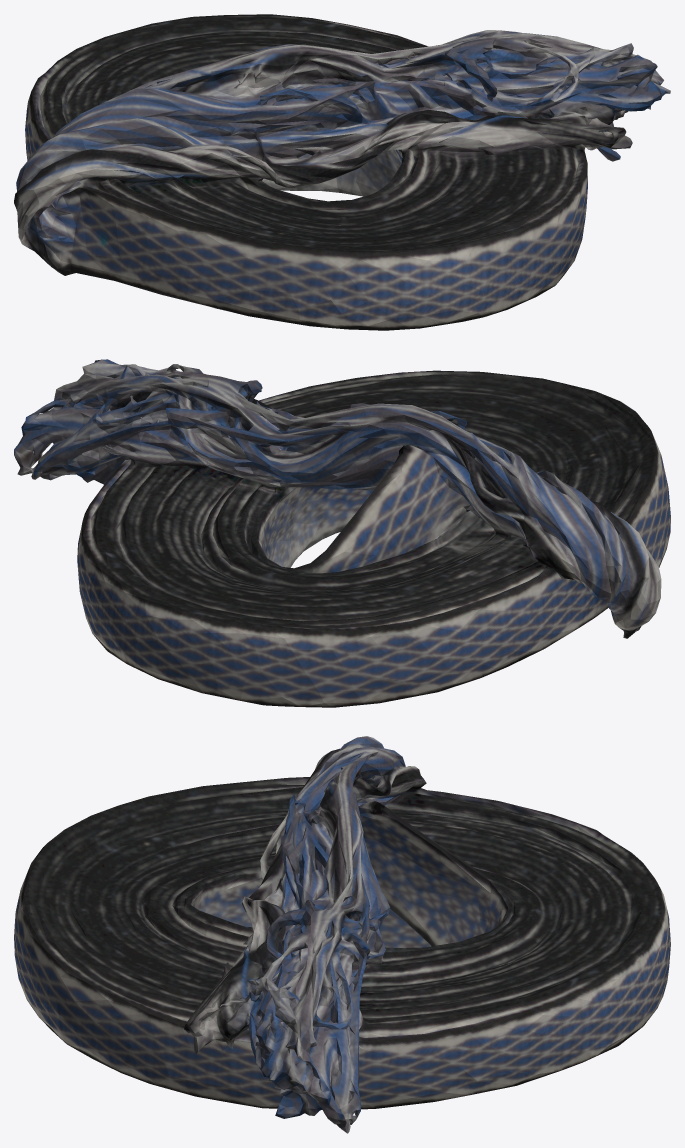
3 renders of one model, top to bottom at view 1: azimuth 30°, elevation 25°; view 2: azimuth 150°, elevation 25°; view 3: azimuth 270°, elevation 25°, orthographic. The views are drawn at different scales.
Visible parts, largest first — view 1: Borte_11k_2k; view 2: Borte_11k_2k; view 3: Borte_11k_2k.
Part boxes in pixels (x1,y1,x2,y2): Borte_11k_2k: (14, 14, 670, 330); Borte_11k_2k: (14, 359, 670, 707); Borte_11k_2k: (14, 736, 670, 1133).
Bounding box in the file's own units: 0.2107 × 0.0637 × 0.186.
1 material, 1 textured.
